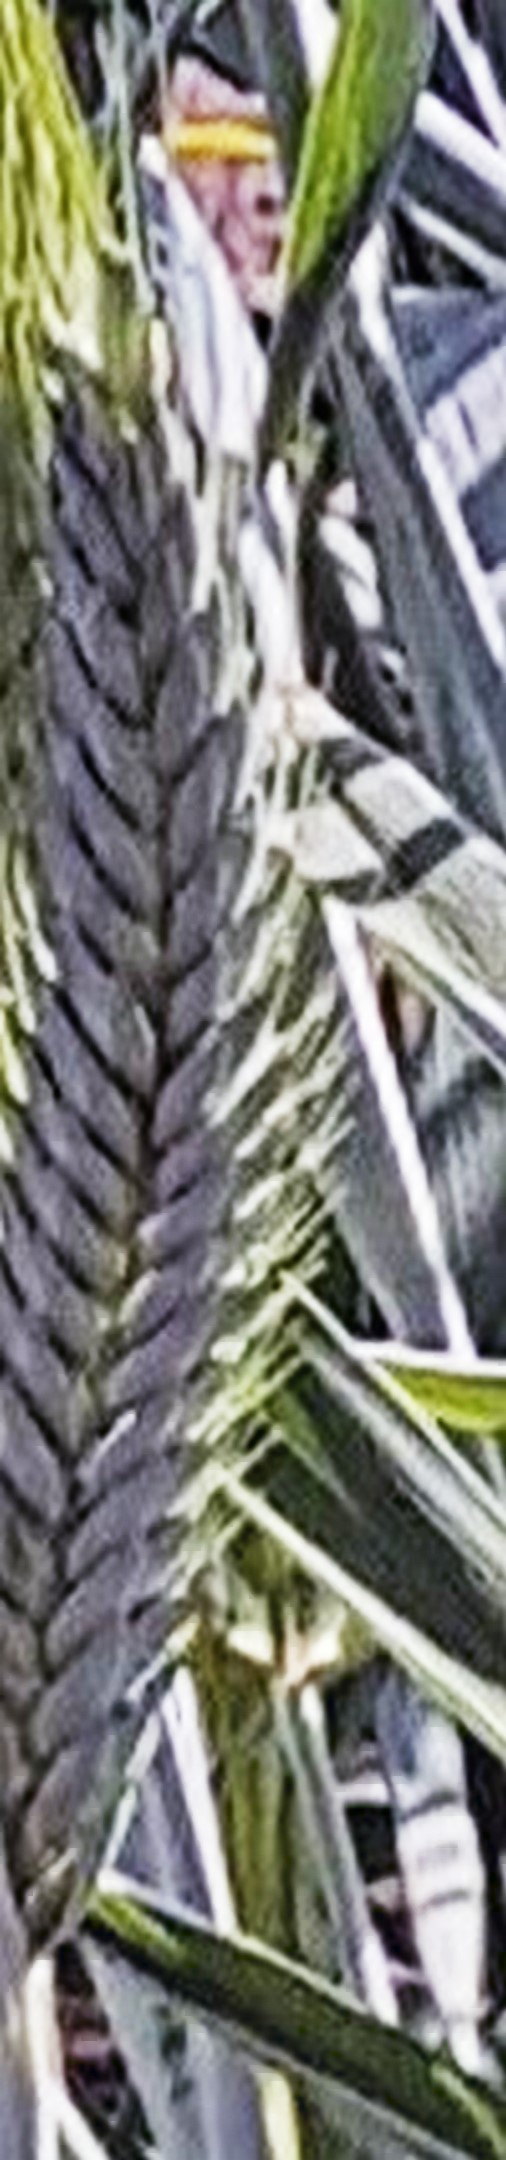Healthy Wheat: (1, 324, 370, 1938)
